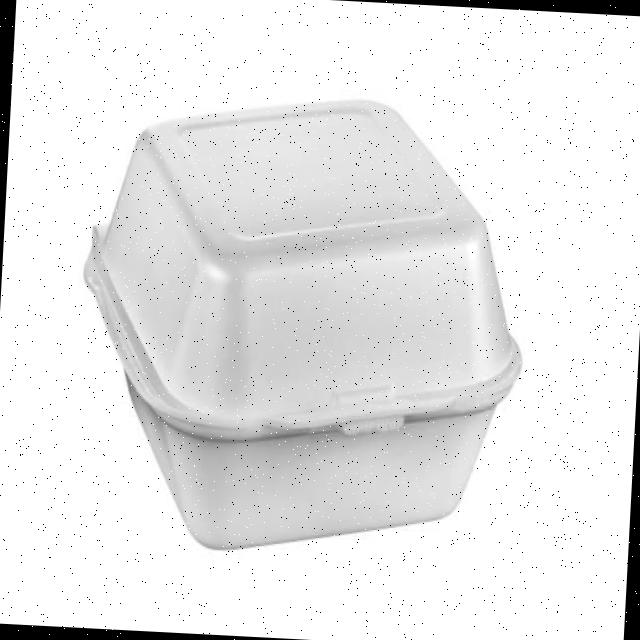styrofoam: (68, 80, 536, 566)
